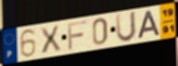0: (91, 17, 109, 47)
6: (19, 28, 38, 59)
A: (137, 9, 162, 40)
F: (66, 19, 88, 51)
U: (115, 10, 138, 44)
X: (38, 24, 63, 56)
